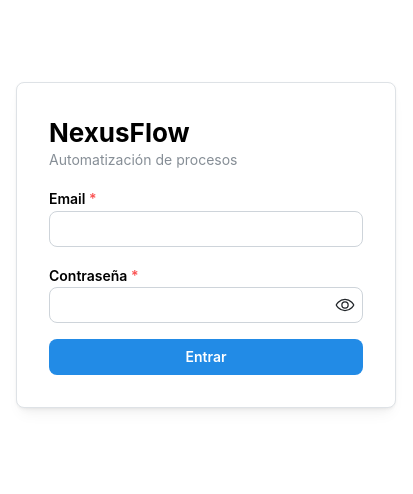
Test: autenticación › sin sesión muestra el login y explica un error de credenciales
In the field labelled "Email *": (206, 229) [49,211,363,247], type "ana@example.com"
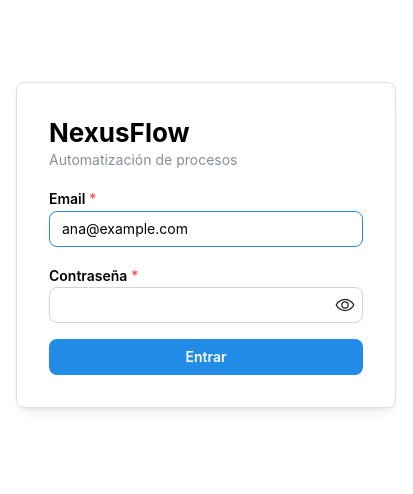
In the password field labelled "Contraseña *": (206, 306) [50,288,362,322], type "mala"
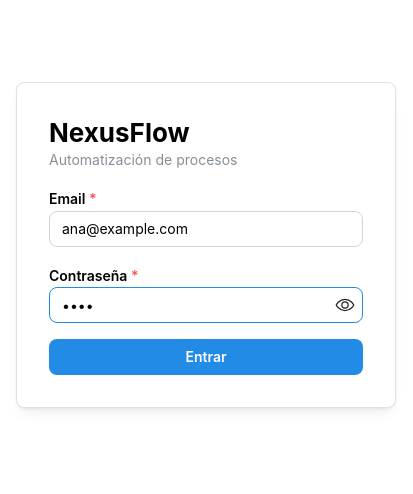
Click the button "Entrar": (206, 358) [49,340,363,376]
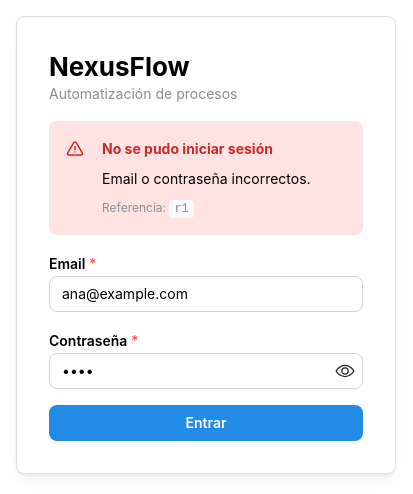
Result: the message shows "Email o contraseña incorrectos." at [102,170,311,187]
Result: the message shows "r1" at [174,202,189,216]
